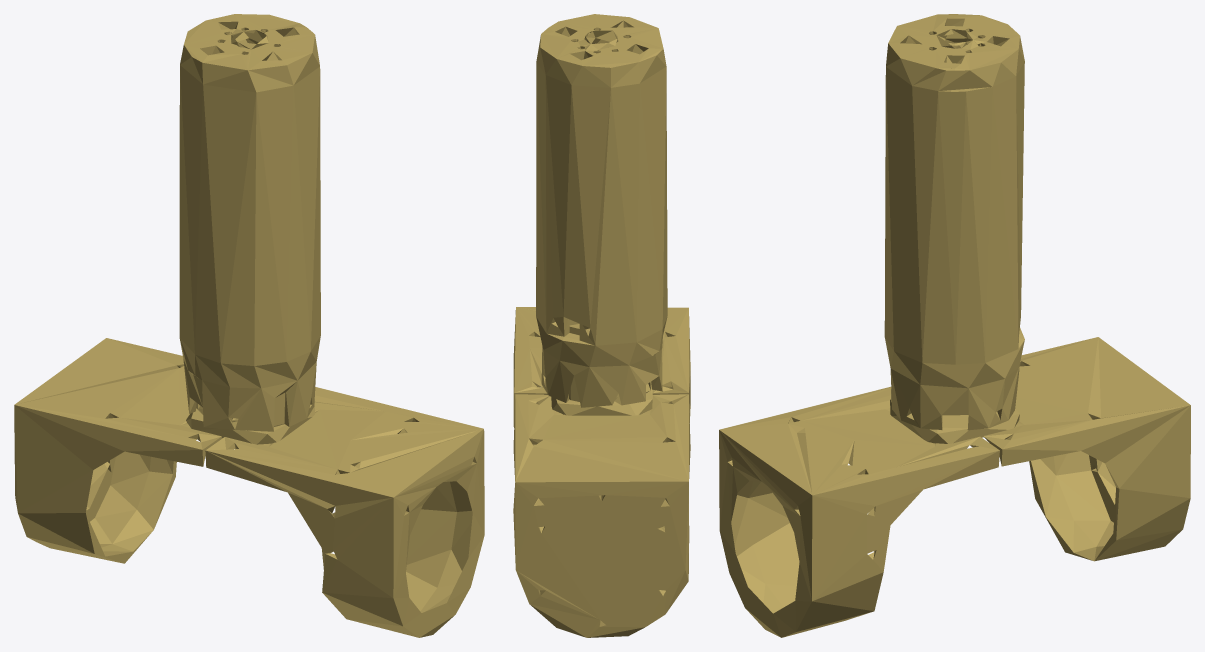
Rendered from r_shoulder_flection.dae.
3 renders of one model, left to right at view 1: azimuth 30°, elevation 25°; view 2: azimuth 150°, elevation 25°; view 3: azimuth 270°, elevation 25°, orthographic. The views are drawn at different scales.
Visible parts, largest first — view 1: M1R; view 2: M1R; view 3: M1R.
Boxes of the visible parts, <box> form: M1R: <box>14,14,484,637</box>; M1R: <box>513,14,690,637</box>; M1R: <box>719,14,1190,637</box>.
Bounding box in the file's own units: 0.1125 × 0.1404 × 0.1807.
